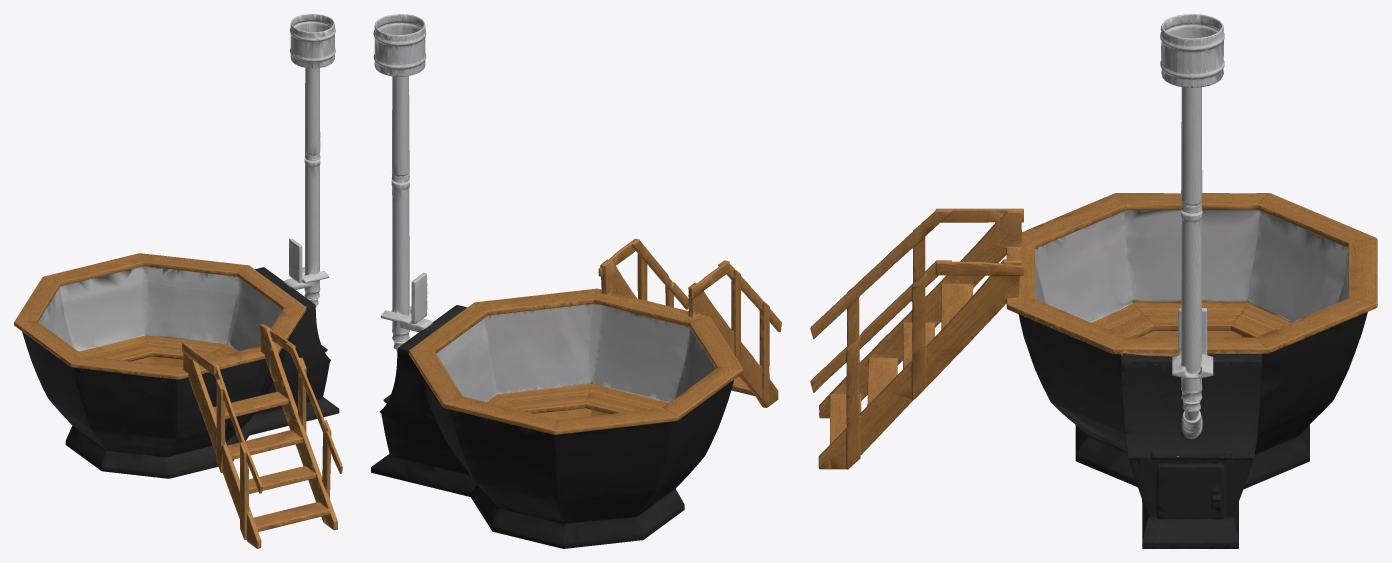
The model's file is wood-fired-hot-tub-compat.glb.
3 renders of one model, left to right at view 1: azimuth 30°, elevation 25°; view 2: azimuth 150°, elevation 25°; view 3: azimuth 270°, elevation 25°, orthographic. The views are drawn at different scales.
Parts seen in each view (by area): view 1: mesh_node; view 2: mesh_node; view 3: mesh_node.
Part boxes in pixels (bbox=[...]): mesh_node: bbox=[14, 14, 342, 548]; mesh_node: bbox=[371, 14, 781, 548]; mesh_node: bbox=[810, 14, 1377, 548].
Bounding box in the file's own units: 1.52 × 1.9 × 1.89.
Materials: 1 (1 with a texture image).
